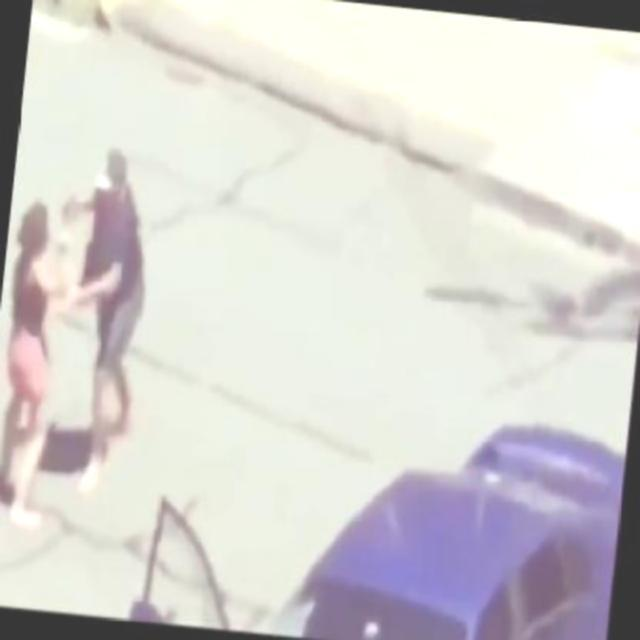fight: (0, 136, 162, 542)
